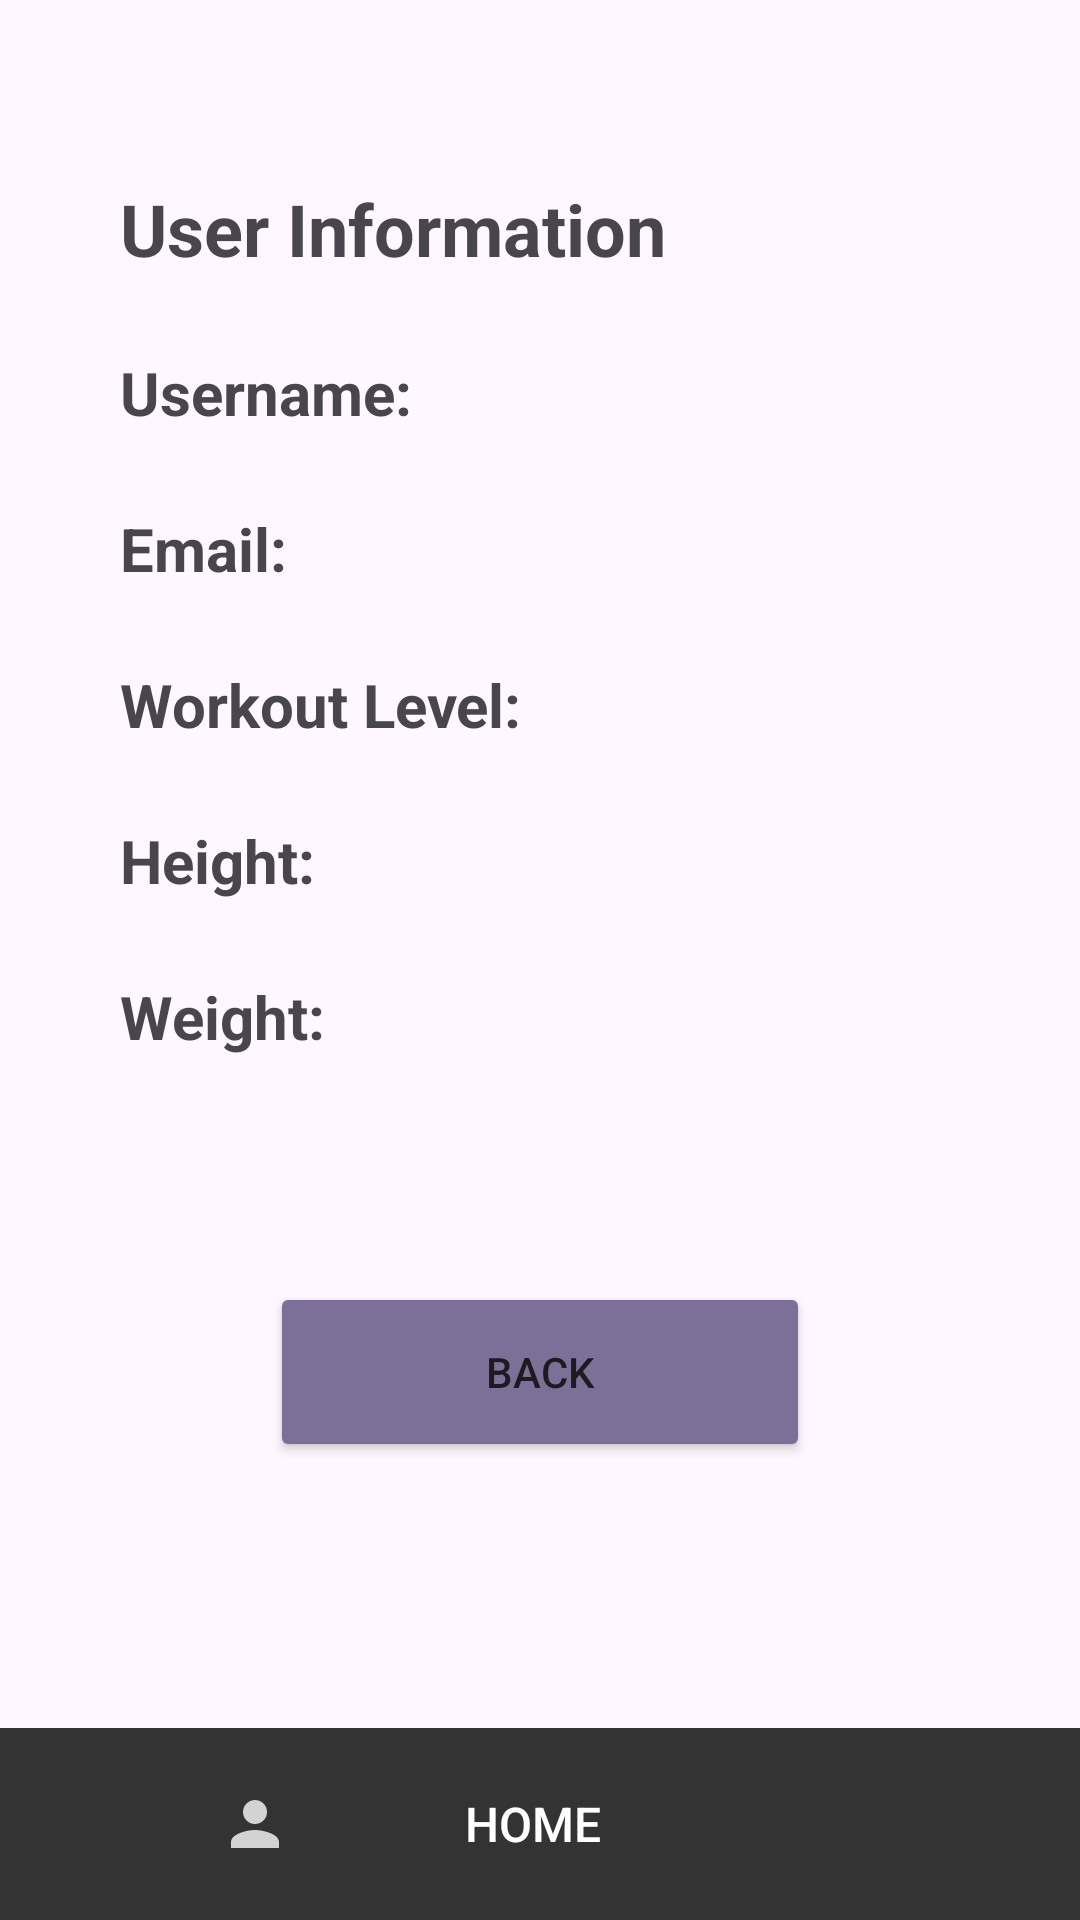

Icon click points for this 1080*1920 phone screenshot, format point (x, y):
Profile Icon: point (255, 1824)
